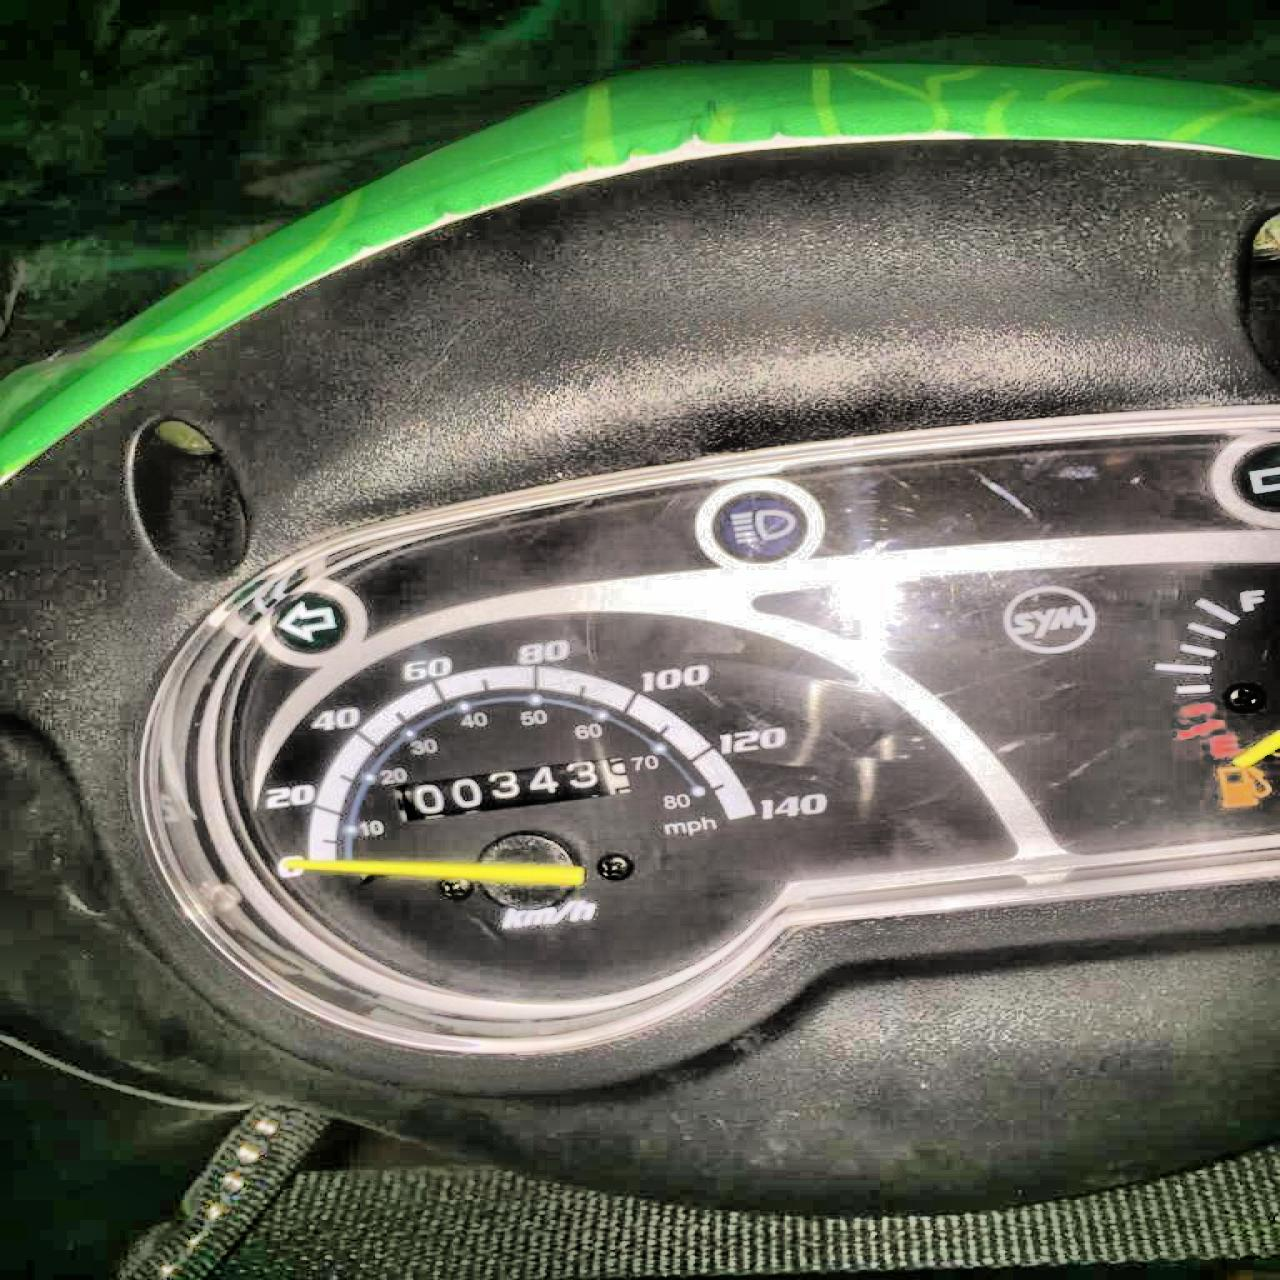0: (448, 776, 482, 808), (410, 783, 443, 813), (392, 767, 406, 782)
2: (383, 769, 392, 783)
3: (485, 769, 520, 797), (564, 760, 597, 789)
4: (525, 763, 557, 792)
6: (605, 754, 627, 775)
odometer: (382, 748, 633, 826)
